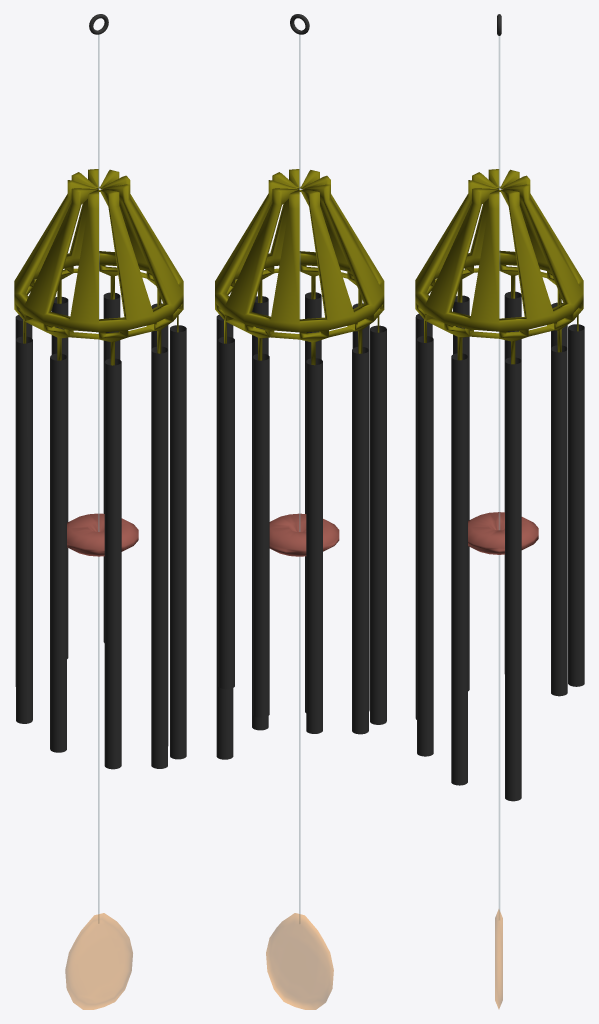
The model's file is elvs_metal_windchimes1.glb.
The picture shows the model from 3 angles, left to right: view 1: azimuth 30°, elevation 25°; view 2: azimuth 150°, elevation 25°; view 3: azimuth 270°, elevation 25°; orthographic projection.
Parts seen in each view (by area): view 1: windchimes2; view 2: windchimes2; view 3: windchimes2.
Part boxes in pixels (left/top/right/bottom): windchimes2: left=14, top=14, right=186, bottom=1009; windchimes2: left=215, top=14, right=386, bottom=1009; windchimes2: left=415, top=14, right=584, bottom=1008.
Size of the model in its own units: 0.4037 by 2.55 by 0.3968.
